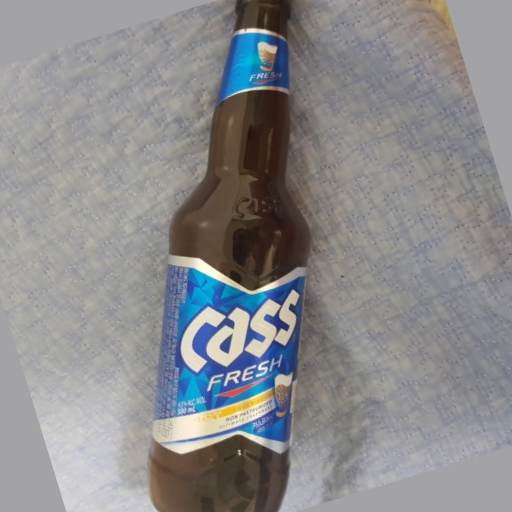Glass_1: (149, 2, 315, 512)
